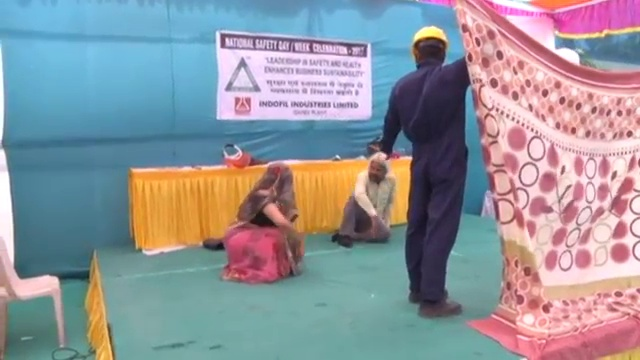helmet: (411, 25, 448, 48)
helmet_off: (364, 150, 391, 185), (263, 160, 294, 189)
helmet_on: (411, 25, 449, 71)
person: (380, 24, 472, 322), (219, 157, 305, 286), (338, 152, 398, 247)
